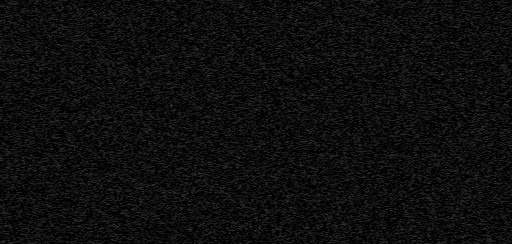wv_am: (222, 0, 228, 244)
wv_cw: (287, 0, 292, 244)
wv_usb: (271, 118, 276, 216), (272, 1, 276, 113), (272, 233, 276, 244), (272, 222, 276, 232), (272, 217, 276, 221)
wv_wbfm: (107, 108, 201, 244), (107, 0, 201, 111)
